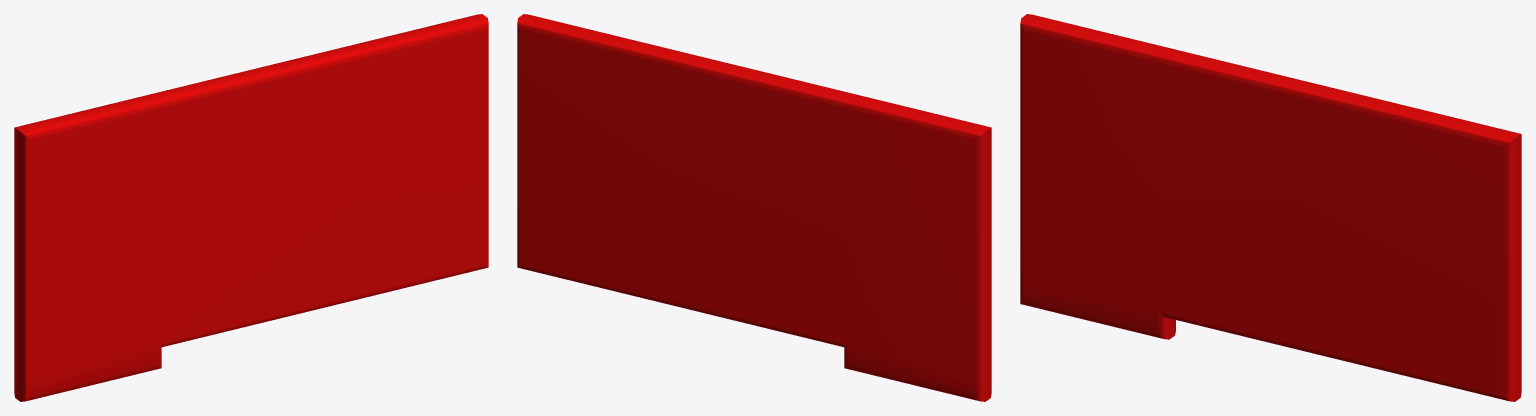
File: BillBoard.fbx
3 views of the same model, side by side, from view 1: azimuth 30°, elevation 25°; view 2: azimuth 150°, elevation 25°; view 3: azimuth 330°, elevation 25° (orthographic). The views are drawn at different scales.
Visible parts, largest first — view 1: BIllBoard; view 2: BIllBoard; view 3: BIllBoard.
Part boxes in pixels (<box>): BIllBoard: <box>14,14,488,401</box>; BIllBoard: <box>517,14,991,401</box>; BIllBoard: <box>1020,14,1521,401</box>.
Size of the model in its own units: 4.16 by 2.3 by 0.2112.
